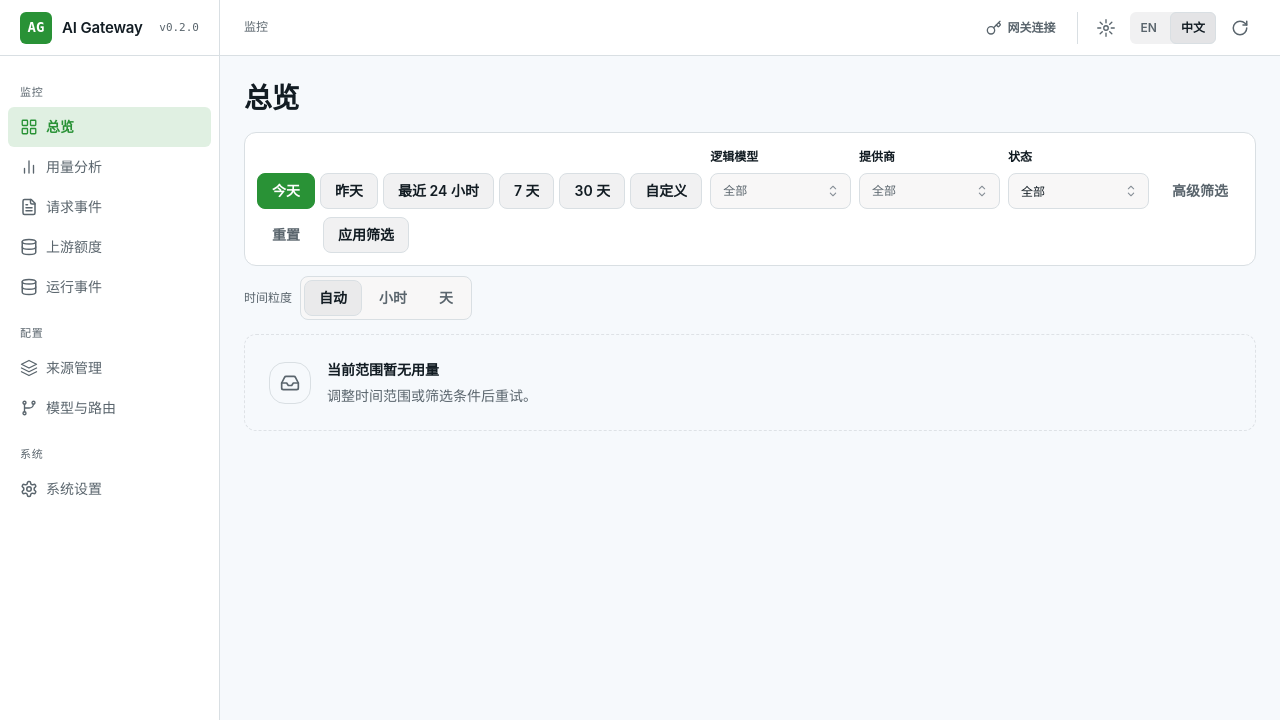
Scenario: GatewayUsagePage empty state › treats an invalid custom range as validation and offers no stale-query retry
Step 1. Click the button "自定义" → click(666, 191), box [630,173,702,209]
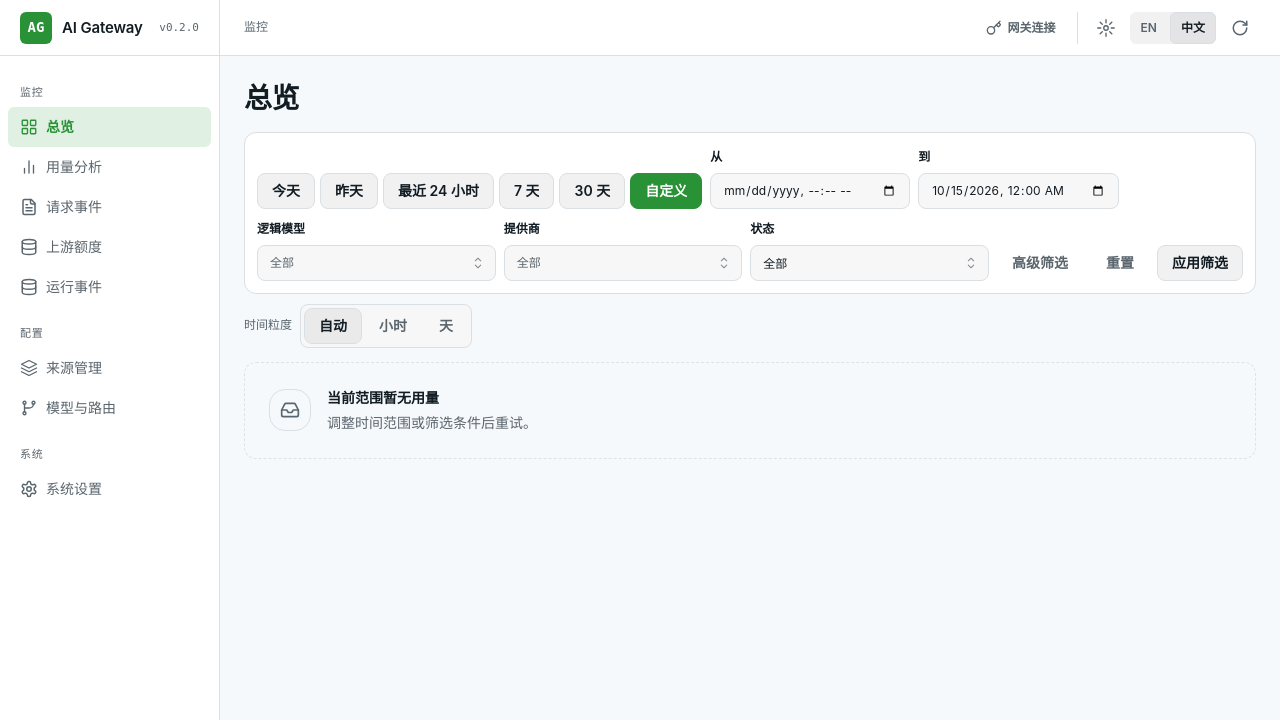
Step 2. Click the button "应用筛选" → click(1200, 263), box [1157,245,1243,281]
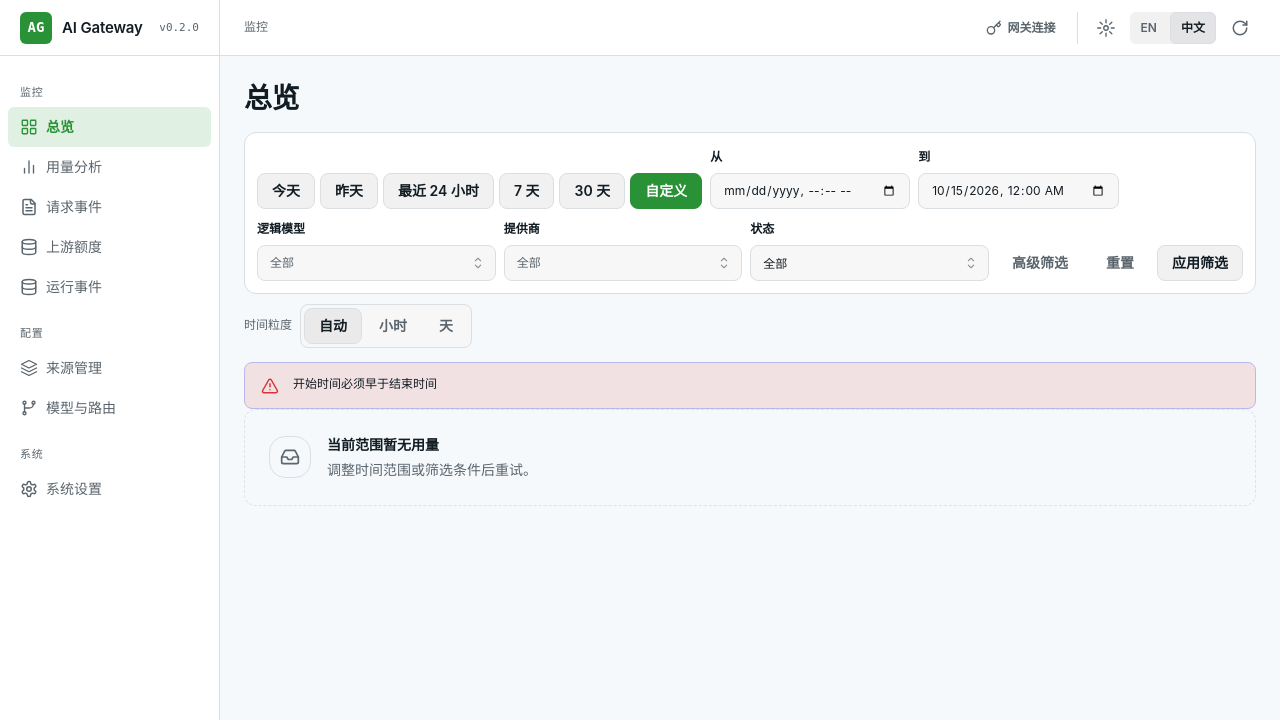
Expected: the message "开始时间必须早于结束时间" is shown, [244,362,1256,409]
